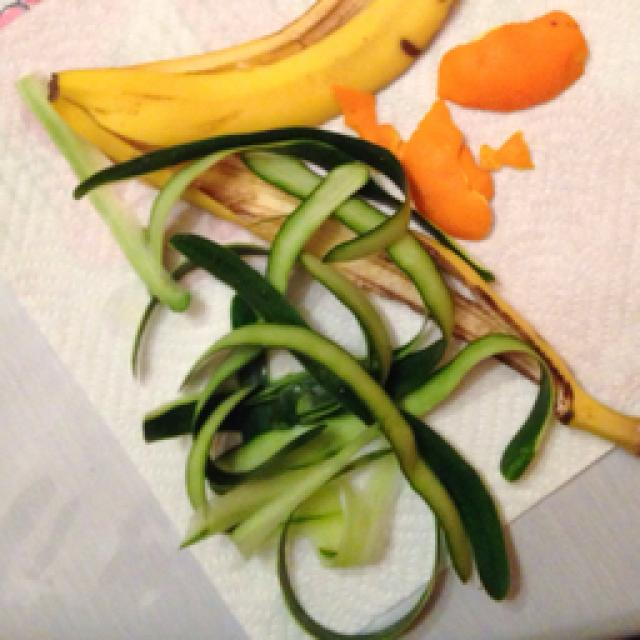food_waste: (20, 0, 638, 638)
